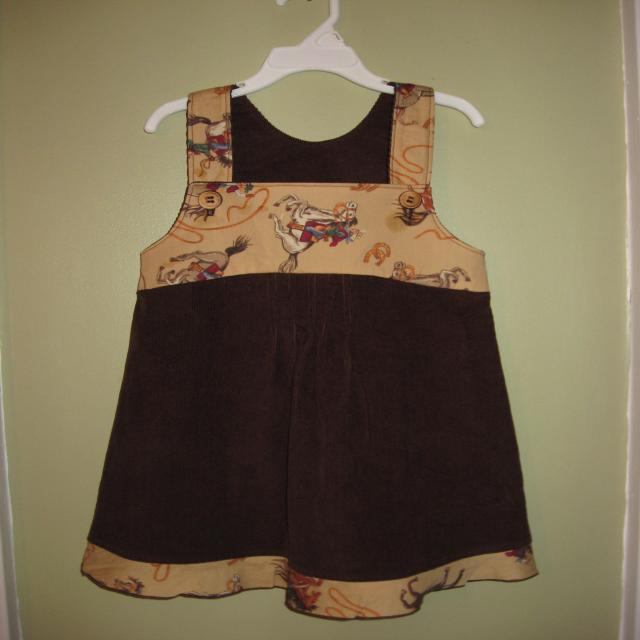Dress: (78, 82, 554, 631)
